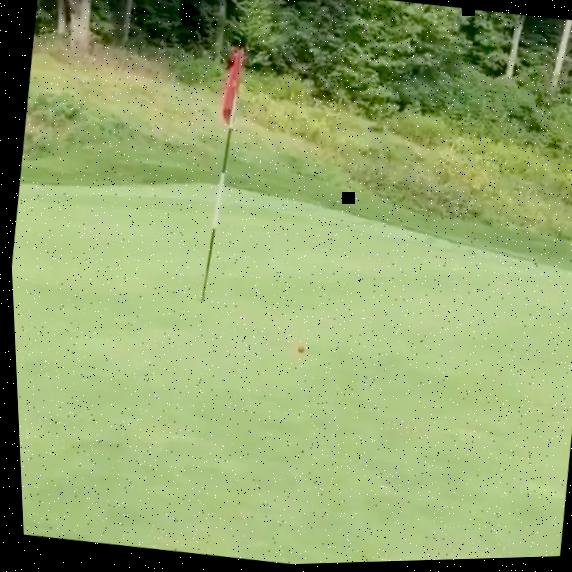GolfBall: (294, 347, 302, 354)
